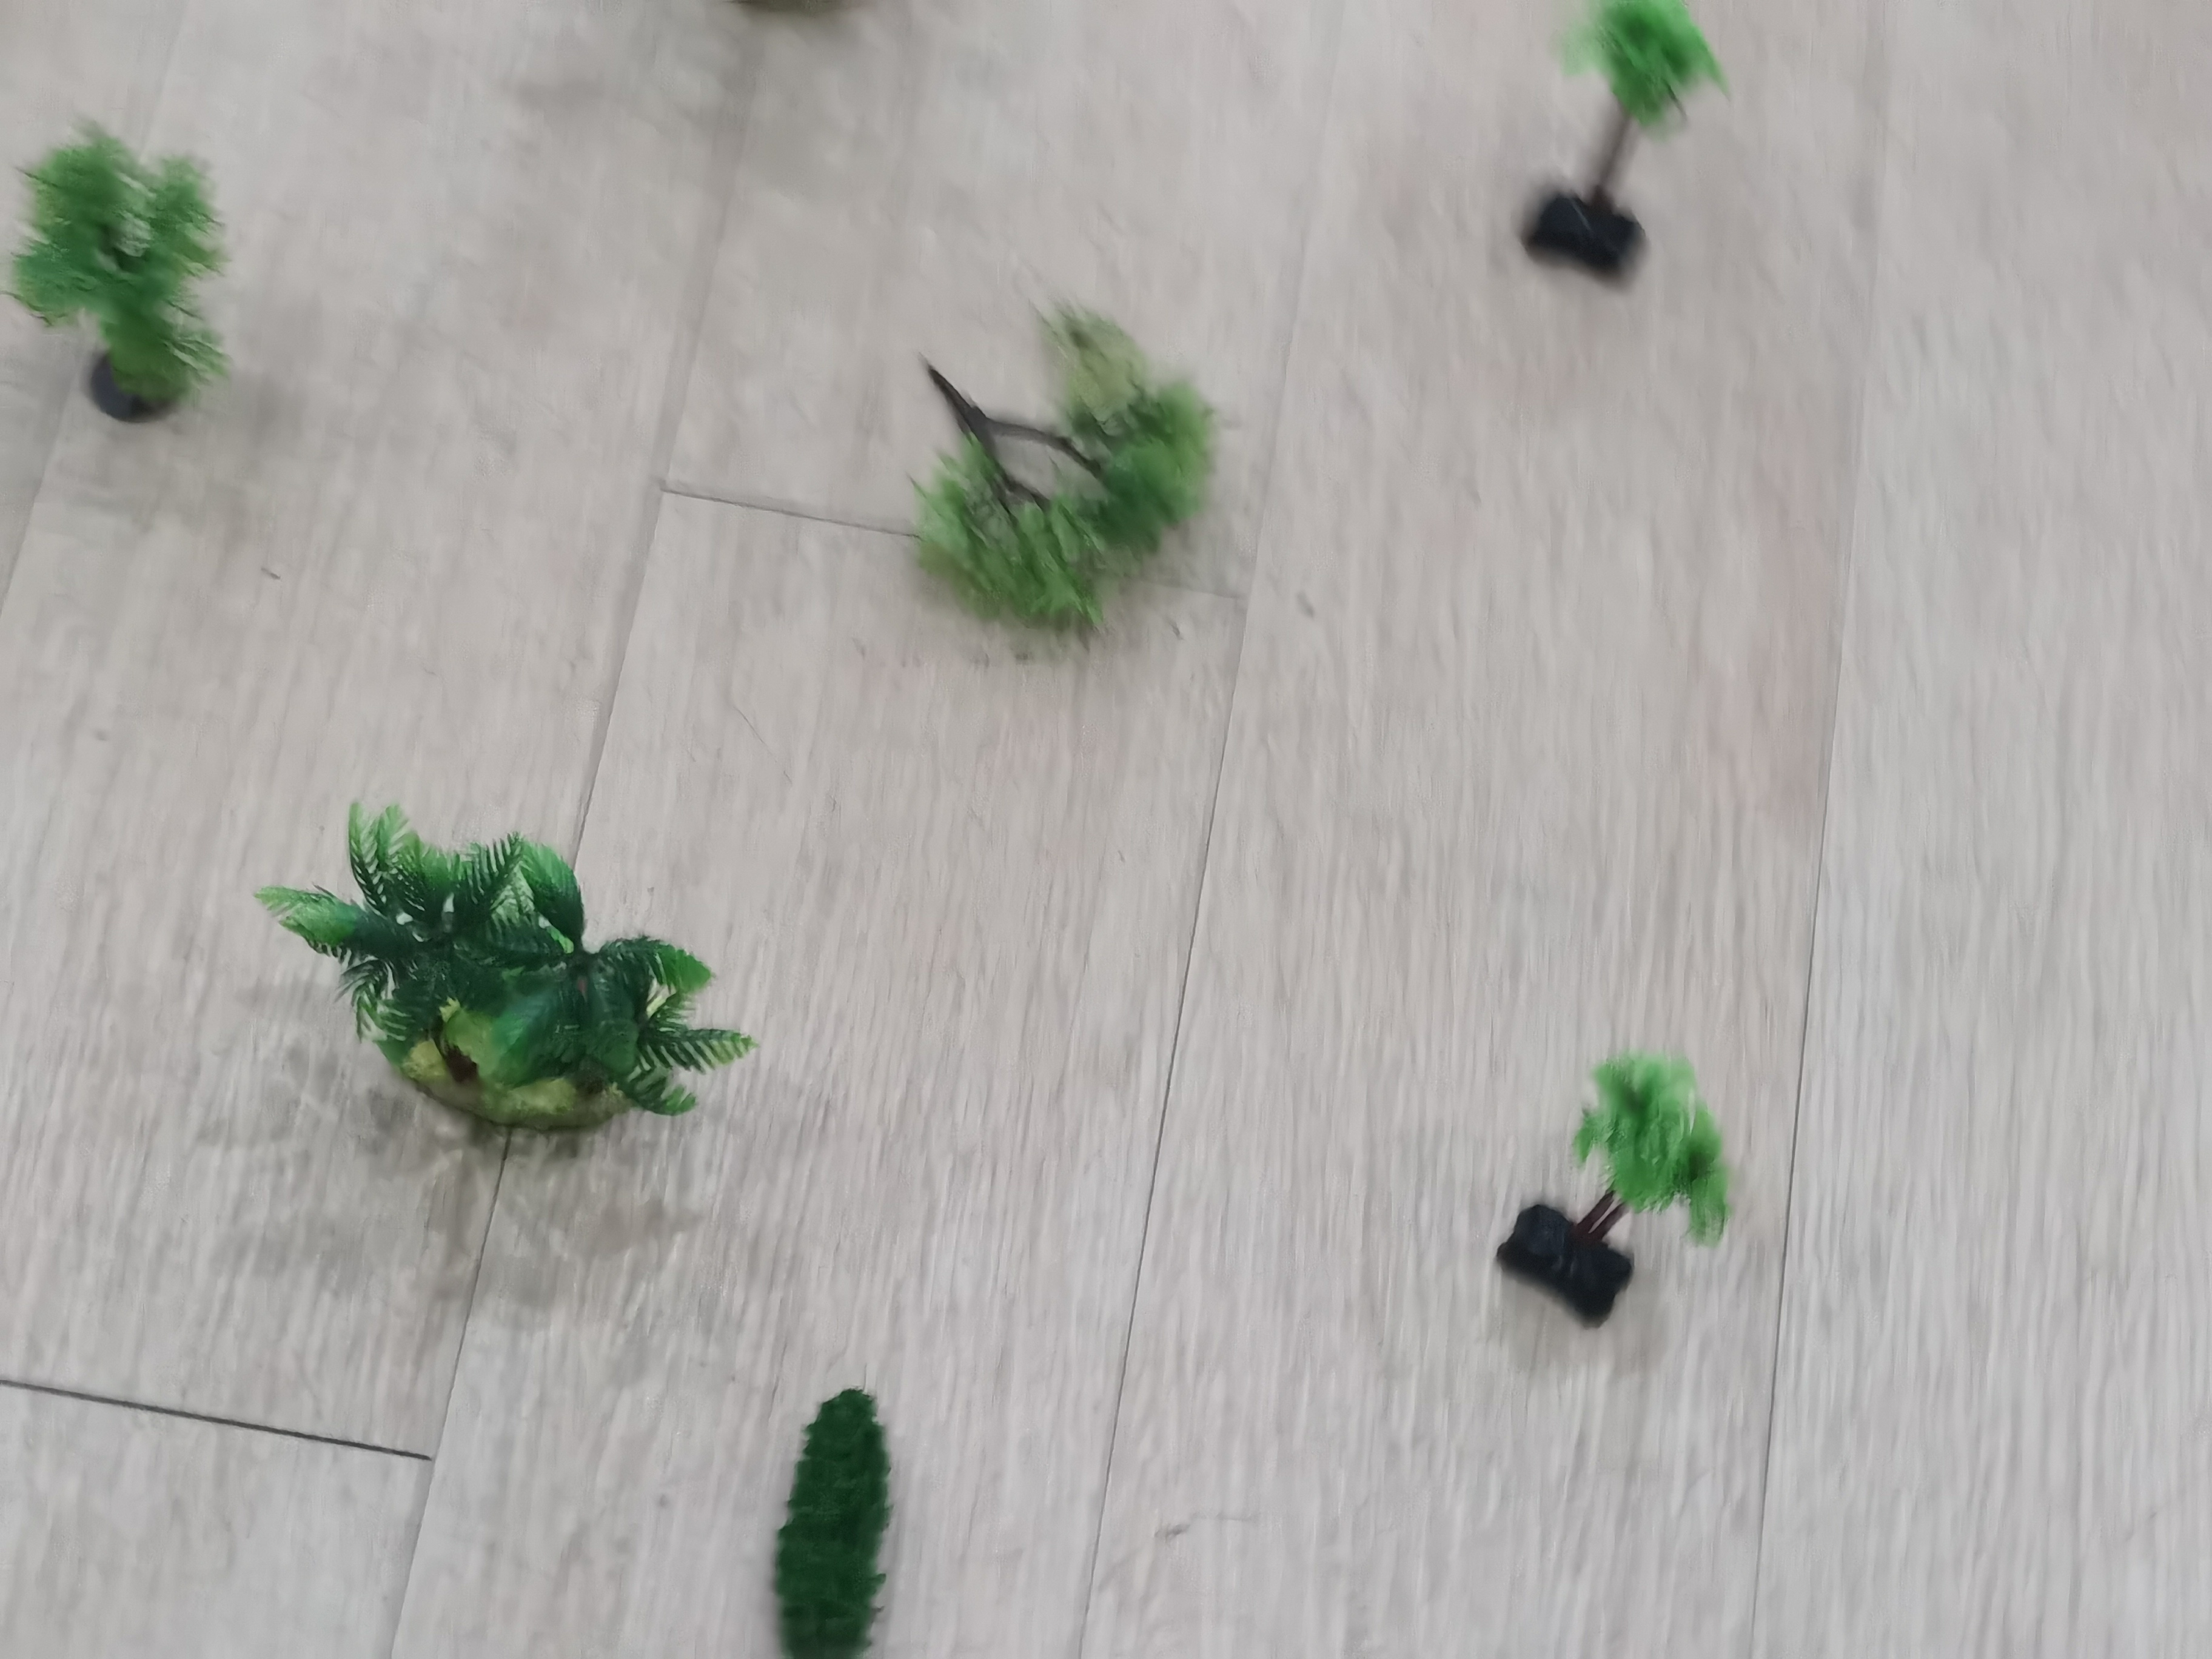corn: (253, 788, 761, 1143), (1479, 1039, 1749, 1335)
